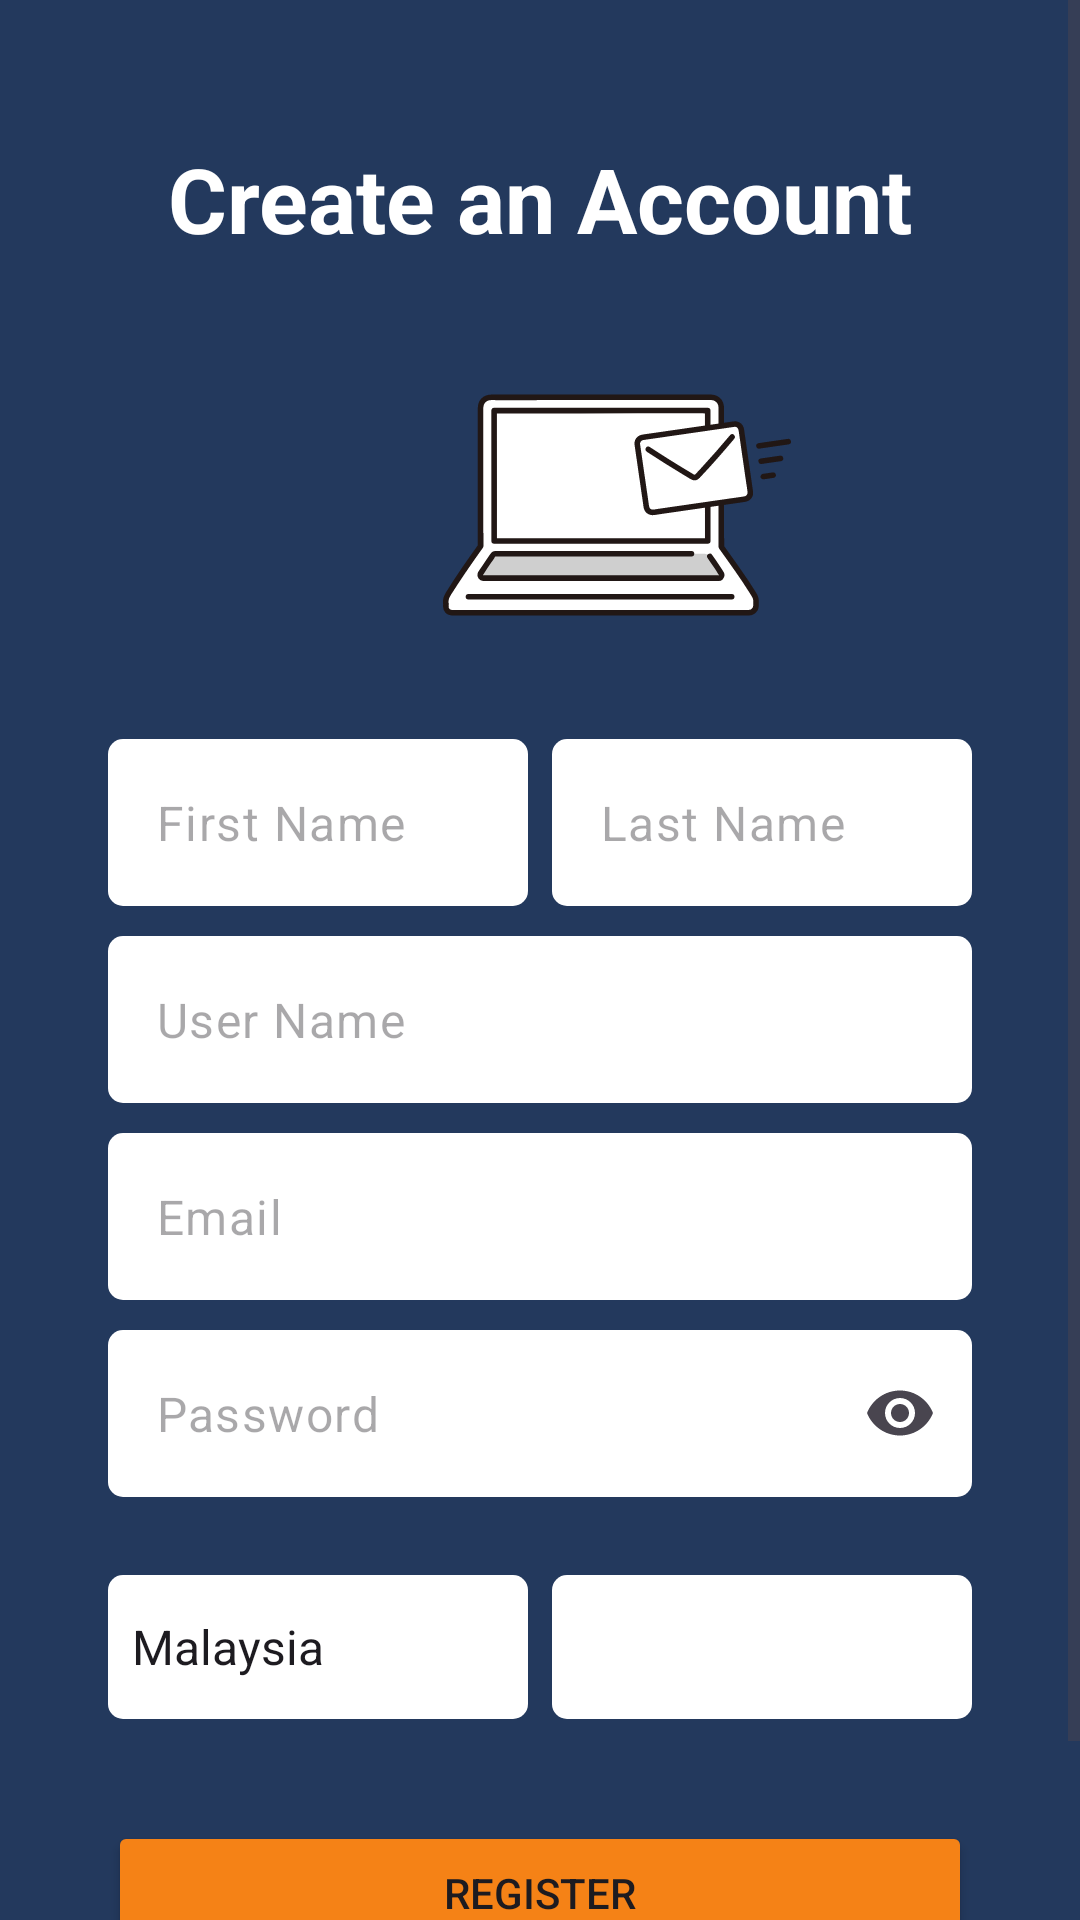

Locate icon controls on the screen. Image size 1080×1920, boxes as (x1, y1, x2, y2).
incoming mail: (443, 394, 791, 616)
